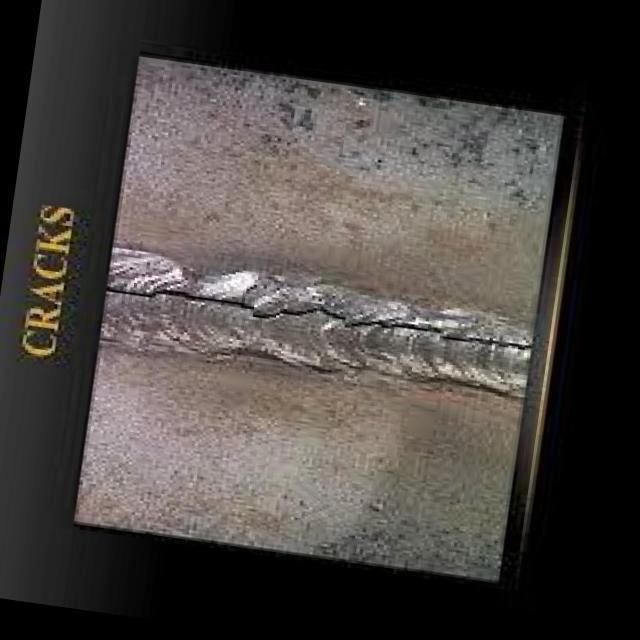defect: (103, 283, 536, 359)
